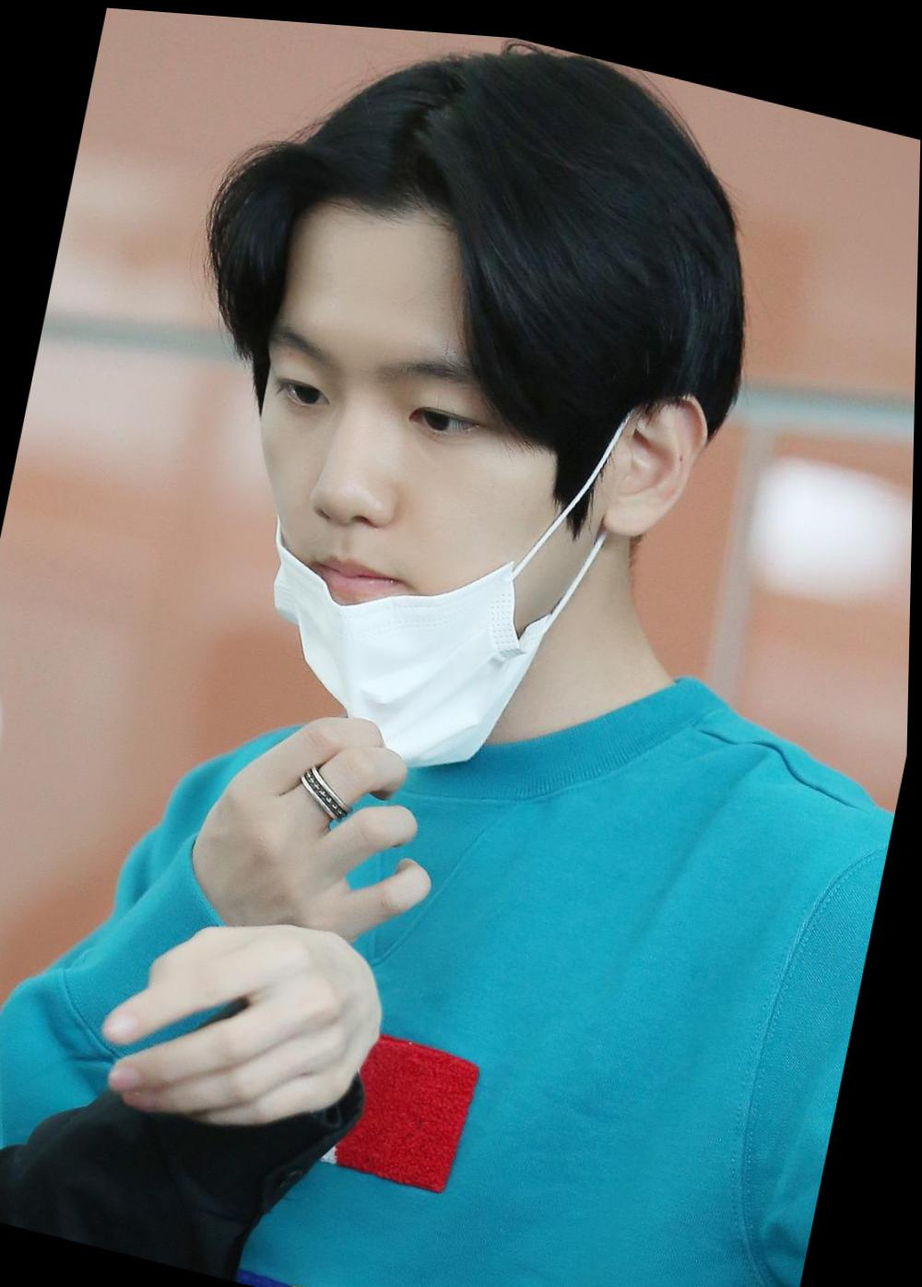WRONG: (204, 256, 621, 768)
